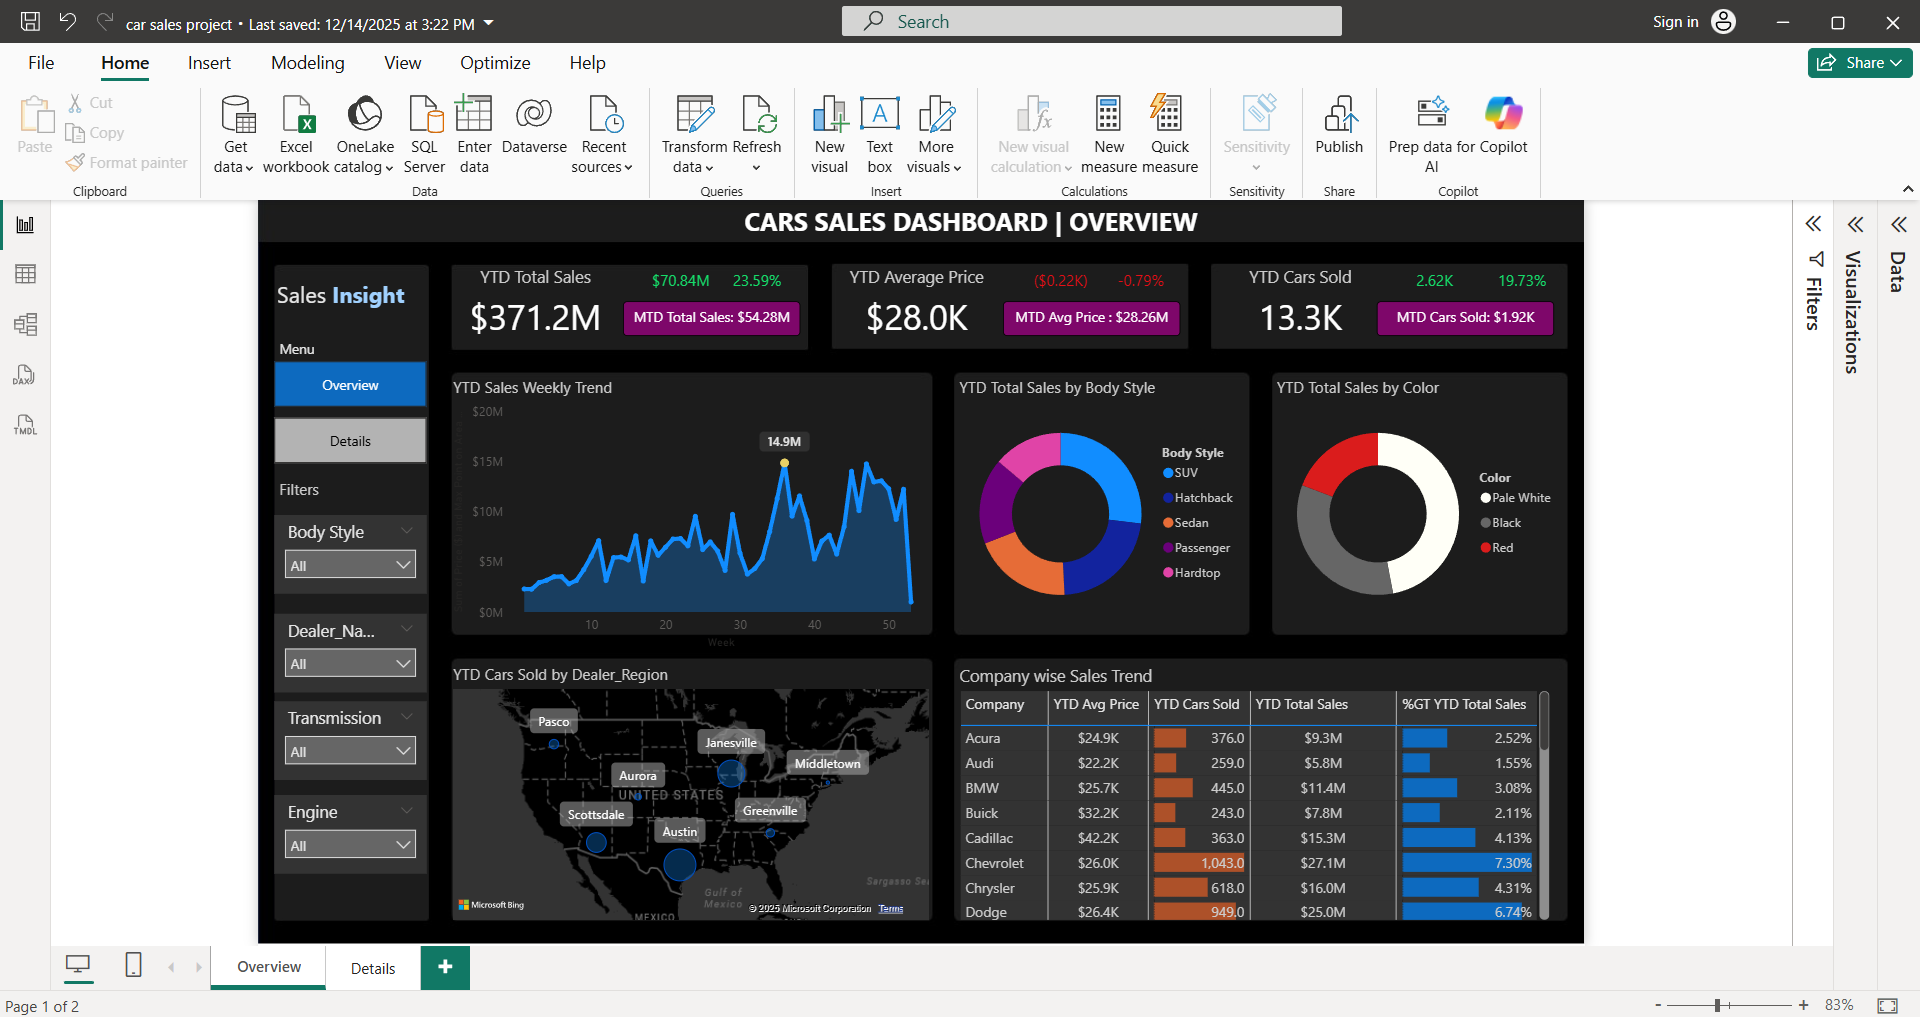

The page's visual inventory and layout, read from the dashboard file:
{"tool":"powerbi","page":{"name":"Overview","canvas":[1280,720],"ordinal":0},"visuals":[{"type":"card","title":"YTD Total Sales","fields":{"Values":["car_data.Year To Date"]},"box":[170.1,62.7,195.4,78.4],"z":0},{"type":"card","fields":{"Values":["car_data.difference of sales"]},"box":[352.3,62.7,112.2,35],"z":1000},{"type":"card","fields":{"Values":["car_data.YoY"]},"box":[425.9,62.7,112.2,35],"z":2000},{"type":"card","fields":{"Values":["car_data.MTD KPI"]},"box":[352.3,97.7,171.3,33.8],"z":3000},{"type":"card","title":"YTD Average Price","fields":{"Values":["car_data.YTD Avg Price"]},"box":[538.1,62.7,195.4,78.4],"z":4000},{"type":"card","fields":{"Values":["car_data.Avg price diff"]},"box":[719,62.7,112.2,35],"z":5000},{"type":"card","fields":{"Values":["car_data.YoY Avg Price"]},"box":[796.3,62.7,112.2,35],"z":6000},{"type":"card","fields":{"Values":["car_data.MTD Avg price KPI"]},"box":[719,97.7,171.3,33.8],"z":7000},{"type":"card","title":"YTD Cars Sold","fields":{"Values":["car_data.YTD Cars Sold"]},"box":[908.4,62.7,195.4,78.4],"z":8000},{"type":"card","fields":{"Values":["car_data.Cars Sold Diff"]},"box":[1079.8,62.7,112.2,35],"z":9000},{"type":"card","fields":{"Values":["car_data.YoY Car Sold Growth"]},"box":[1164.2,62.7,112.2,35],"z":10000},{"type":"card","fields":{"Values":["car_data.MTD Cars Sold KPI"]},"box":[1079.8,97.7,171.3,33.8],"z":11000},{"type":"areaChart","title":"YTD Sales Weekly Trend","fields":{"Category":["Calender Table.Week"],"Y":["Sum(car_data.Price ($))","car_data.Max Point on Area Chart"]},"box":[183.9,170.2,469.3,267.6],"z":12000},{"type":"donutChart","fields":{"Category":["car_data.Body Style"],"Y":["car_data.Year To Date"]},"box":[672,170.1,283.5,246.1],"z":13000},{"type":"donutChart","fields":{"Y":["car_data.Year To Date"],"Category":["car_data.Color"]},"box":[978.4,170.1,283.5,246.1],"z":14000},{"type":"map","fields":{"Category":["car_data.Dealer_Region"],"Size":["car_data.YTD Cars Sold"]},"box":[183.4,447.6,469.3,252.1],"z":15000},{"type":"tableEx","title":"Company wise Sales Trend","fields":{"Values":["car_data.Company","car_data.YTD Avg Price","car_data.YTD Cars Sold","car_data.Year To Date Total Sales","car_data.Year To Date"]},"box":[672,447.6,579.1,252.1],"z":16000},{"type":"textbox","box":[464.5,0,469.3,49.5],"z":17000},{"type":"slicer","fields":{"Values":["car_data.Body Style"]},"box":[15.7,304,147.2,76],"z":18000},{"type":"slicer","fields":{"Values":["car_data.Dealer_Name"]},"box":[15.7,399.3,147.2,76],"z":18001},{"type":"slicer","fields":{"Values":["car_data.Transmission"]},"box":[15.7,483.8,147.2,76],"z":18002},{"type":"slicer","fields":{"Values":["car_data.Engine"]},"box":[15.7,574.3,147.2,76],"z":18003},{"type":"textbox","box":[15.7,264.2,149.6,39.8],"z":18004},{"type":"pageNavigator","box":[15.7,155.6,147.2,98.9],"z":18005},{"type":"textbox","box":[13.3,71.2,150.8,53.1],"z":18006},{"type":"textbox","box":[15.7,129.1,49.5,41],"z":18007}]}

Visuals, with their boxes on the page's 1280x720 design canvas (x1, y1, x2, y2). These are canvas units, not pixel positions in the 1920x1017 screenshot, which may show the page scaled, cropped or inside an application window:
"YTD Total Sales" card: rect(170, 63, 366, 141)
card - car_data.difference of sales: rect(352, 63, 464, 98)
card - car_data.YoY: rect(426, 63, 538, 98)
card - car_data.MTD KPI: rect(352, 98, 524, 132)
"YTD Average Price" card: rect(538, 63, 734, 141)
card - car_data.Avg price diff: rect(719, 63, 831, 98)
card - car_data.YoY Avg Price: rect(796, 63, 908, 98)
card - car_data.MTD Avg price KPI: rect(719, 98, 890, 132)
"YTD Cars Sold" card: rect(908, 63, 1104, 141)
card - car_data.Cars Sold Diff: rect(1080, 63, 1192, 98)
card - car_data.YoY Car Sold Growth: rect(1164, 63, 1276, 98)
card - car_data.MTD Cars Sold KPI: rect(1080, 98, 1251, 132)
"YTD Sales Weekly Trend" areaChart: rect(184, 170, 653, 438)
donutChart - car_data.Body Style x car_data.Year To Date: rect(672, 170, 956, 416)
donutChart - car_data.Year To Date x car_data.Color: rect(978, 170, 1262, 416)
map - car_data.Dealer_Region x car_data.YTD Cars Sold: rect(183, 448, 653, 700)
"Company wise Sales Trend" tableEx: rect(672, 448, 1251, 700)
textbox: rect(464, 0, 934, 50)
slicer - car_data.Body Style: rect(16, 304, 163, 380)
slicer - car_data.Dealer_Name: rect(16, 399, 163, 475)
slicer - car_data.Transmission: rect(16, 484, 163, 560)
slicer - car_data.Engine: rect(16, 574, 163, 650)
textbox: rect(16, 264, 165, 304)
pageNavigator: rect(16, 156, 163, 254)
textbox: rect(13, 71, 164, 124)
textbox: rect(16, 129, 65, 170)
